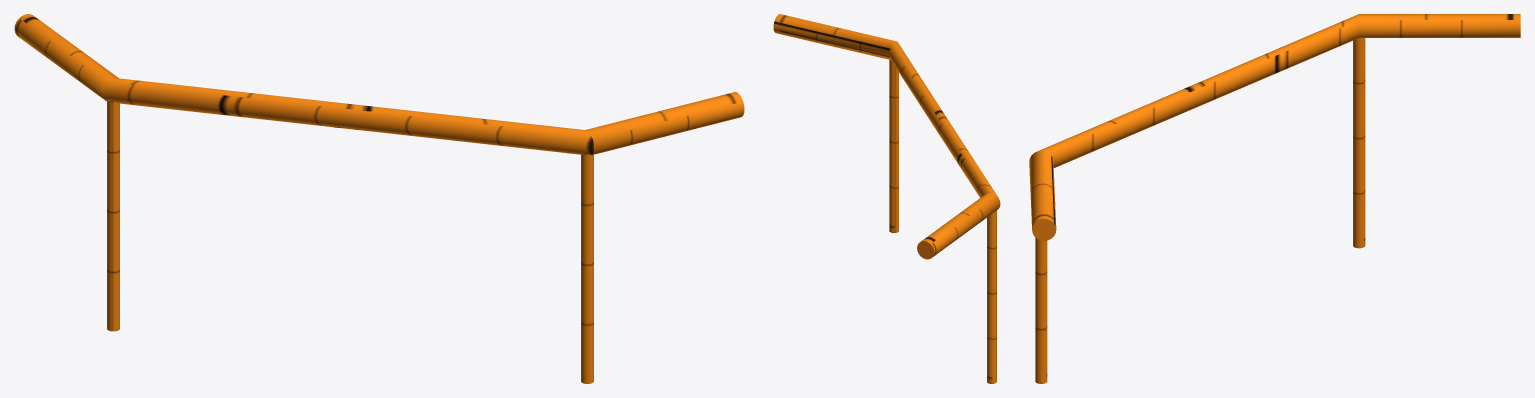
File: railing.fbx
3 renders of one model, left to right at view 1: azimuth 30°, elevation 25°; view 2: azimuth 150°, elevation 25°; view 3: azimuth 270°, elevation 25°, orthographic. The views are drawn at different scales.
Visible parts, largest first — view 1: railing; view 2: railing; view 3: railing.
Boxes of the visible parts, x1,y1,x2,y2 form: railing: (14, 14, 744, 383); railing: (773, 14, 1000, 383); railing: (1029, 14, 1520, 383).
Bounding box in the file's own units: 204 × 105 × 203.
1 material, 1 textured.
